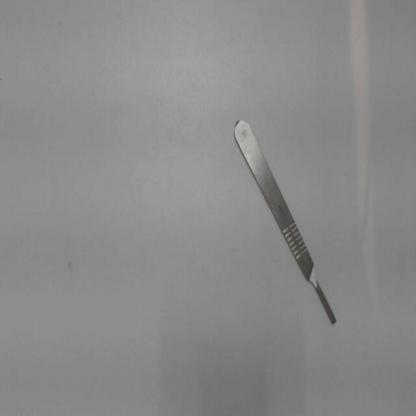No.4 BP Handle: (216, 107, 345, 334)
